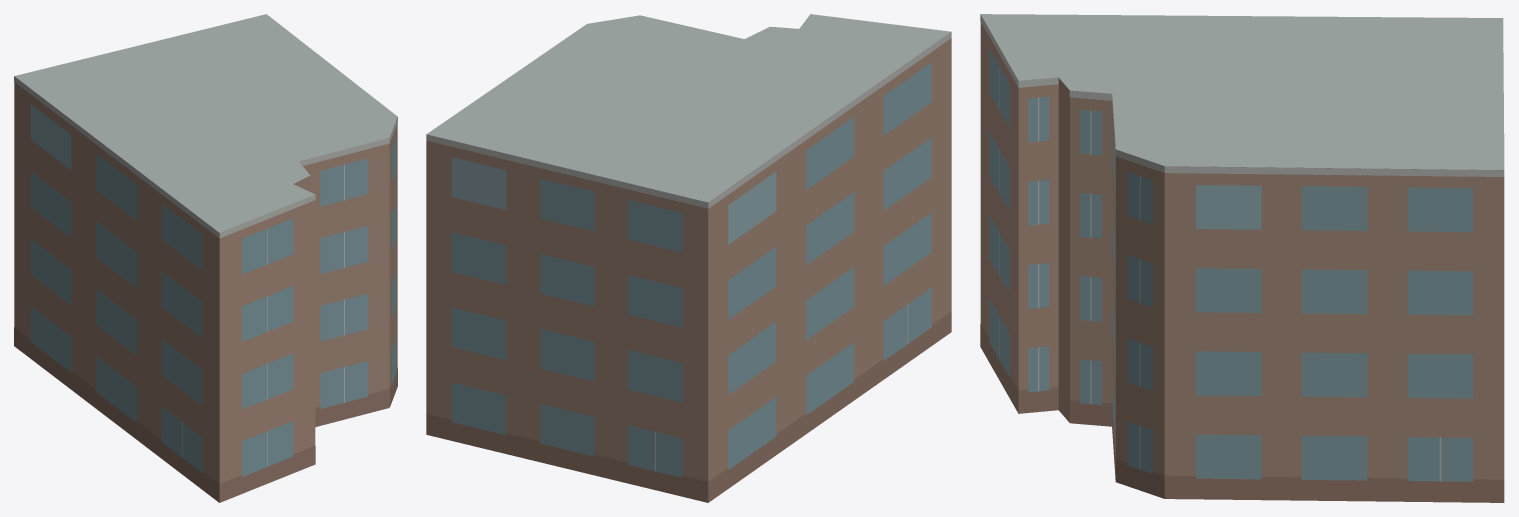
Rendered from survey-upis-33008986.glb.
3 renders of one model, left to right at view 1: azimuth 30°, elevation 25°; view 2: azimuth 150°, elevation 25°; view 3: azimuth 270°, elevation 25°, orthographic. The views are drawn at different scales.
Visible parts, largest first — view 1: survey-upis-33008986.tmp; view 2: survey-upis-33008986.tmp; view 3: survey-upis-33008986.tmp.
Boxes of the visible parts, bbox=[...] form: survey-upis-33008986.tmp: bbox=[14, 14, 397, 502]; survey-upis-33008986.tmp: bbox=[426, 14, 951, 502]; survey-upis-33008986.tmp: bbox=[980, 14, 1504, 502].
Size of the model in its own units: 11.81 by 11.73 by 16.75.
